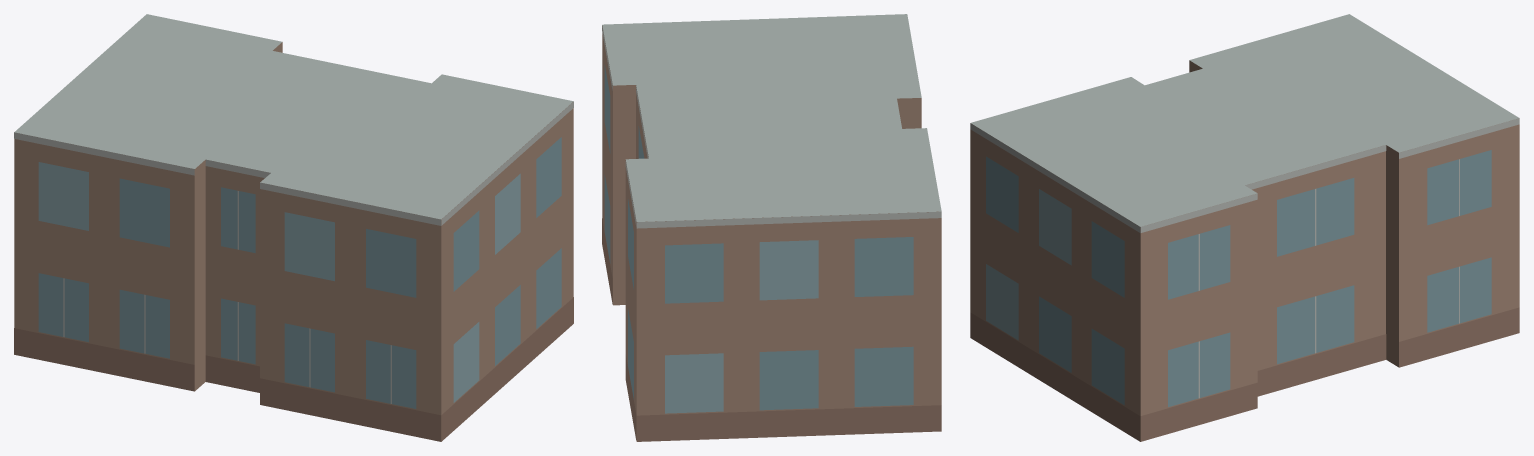
File: survey-upis-33018830.glb
The picture shows the model from 3 angles, left to right: view 1: azimuth 30°, elevation 25°; view 2: azimuth 150°, elevation 25°; view 3: azimuth 270°, elevation 25°; orthographic projection. The views are drawn at different scales.
Visible parts, largest first — view 1: survey-upis-33018830.tmp; view 2: survey-upis-33018830.tmp; view 3: survey-upis-33018830.tmp.
Part boxes in pixels (box(x1,y1,x2,y2)): survey-upis-33018830.tmp: box(14, 14, 573, 441); survey-upis-33018830.tmp: box(602, 14, 941, 441); survey-upis-33018830.tmp: box(970, 14, 1519, 441).
Bounding box in the file's own units: 17.73 × 8.34 × 19.33.
